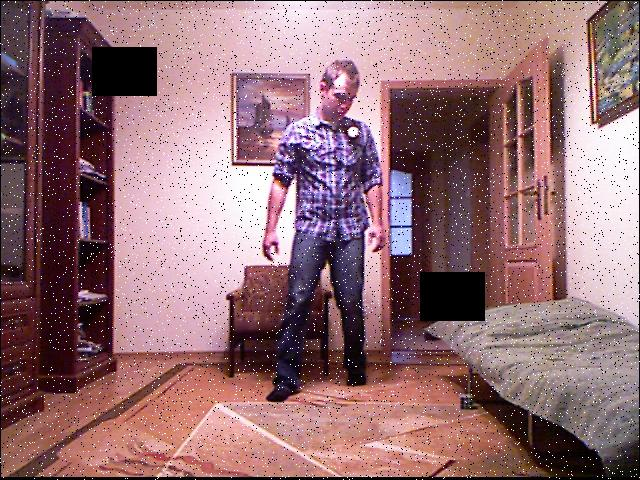walking: (266, 44, 397, 407)
